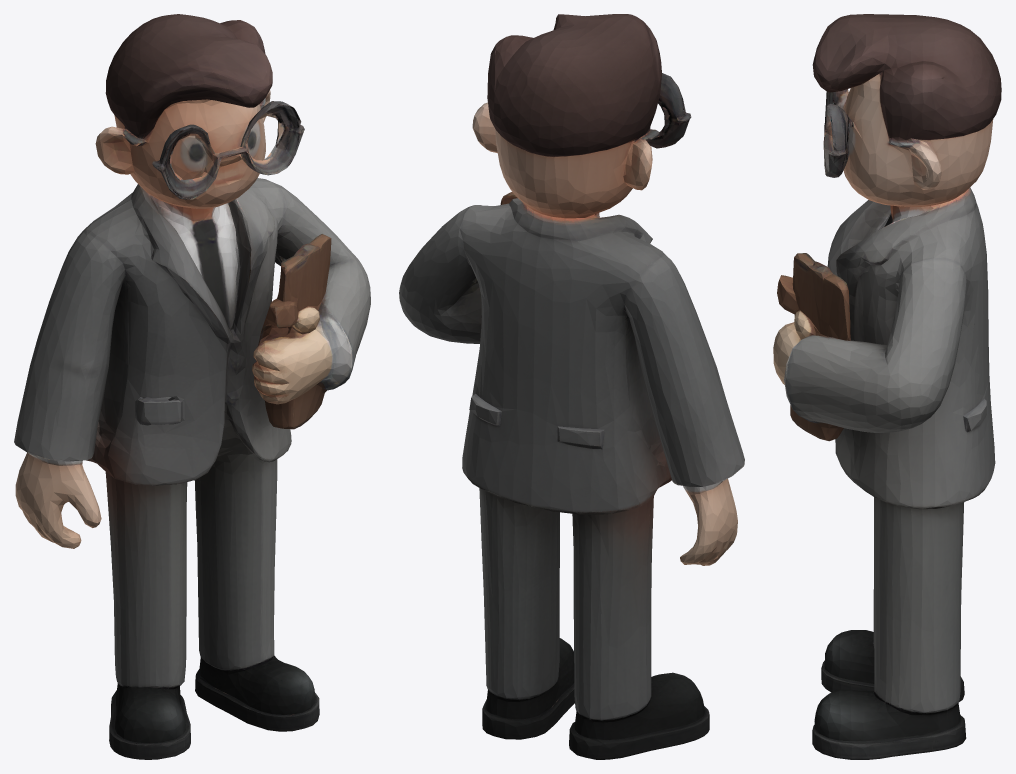
The model's file is price.glb.
3 renders of one model, left to right at view 1: azimuth 30°, elevation 25°; view 2: azimuth 150°, elevation 25°; view 3: azimuth 270°, elevation 25°, orthographic. The views are drawn at different scales.
Parts seen in each view (by area): view 1: geometry_0; view 2: geometry_0; view 3: geometry_0.
Boxes of the visible parts, x1,y1,x2,y2 form: geometry_0: [14, 14, 370, 759]; geometry_0: [399, 14, 744, 759]; geometry_0: [773, 14, 1001, 759].
Size of the model in its own units: 0.5123 by 0.9998 by 0.3009.
1 material, 1 textured.
